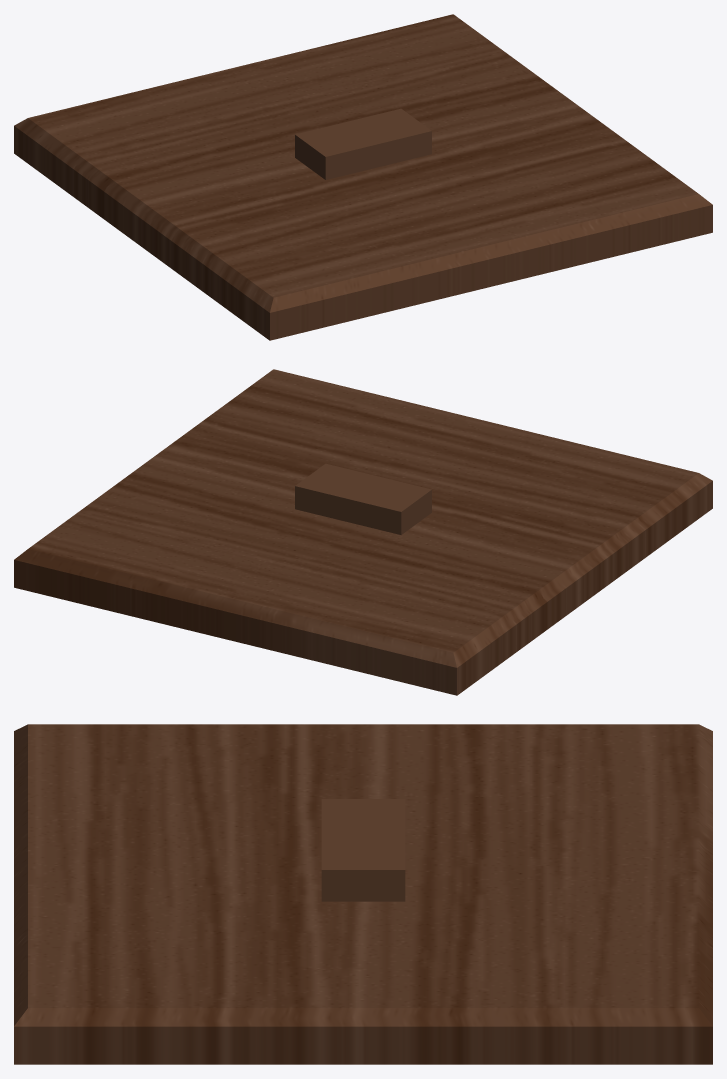
Rendered from lid_2_2.glb.
3 views of the same model, one above another, from view 1: azimuth 30°, elevation 25°; view 2: azimuth 150°, elevation 25°; view 3: azimuth 270°, elevation 25° (orthographic). The views are drawn at different scales.
Parts seen in each view (by area): view 1: lid_2_2; view 2: lid_2_2; view 3: lid_2_2.
Boxes of the visible parts, box(x1,y1,x2,y2) form: lid_2_2: box(14, 14, 712, 340); lid_2_2: box(14, 369, 712, 695); lid_2_2: box(14, 724, 712, 1064).
Bounding box in the file's own units: 0.1 × 0.013 × 0.1.
1 material, 1 textured.
